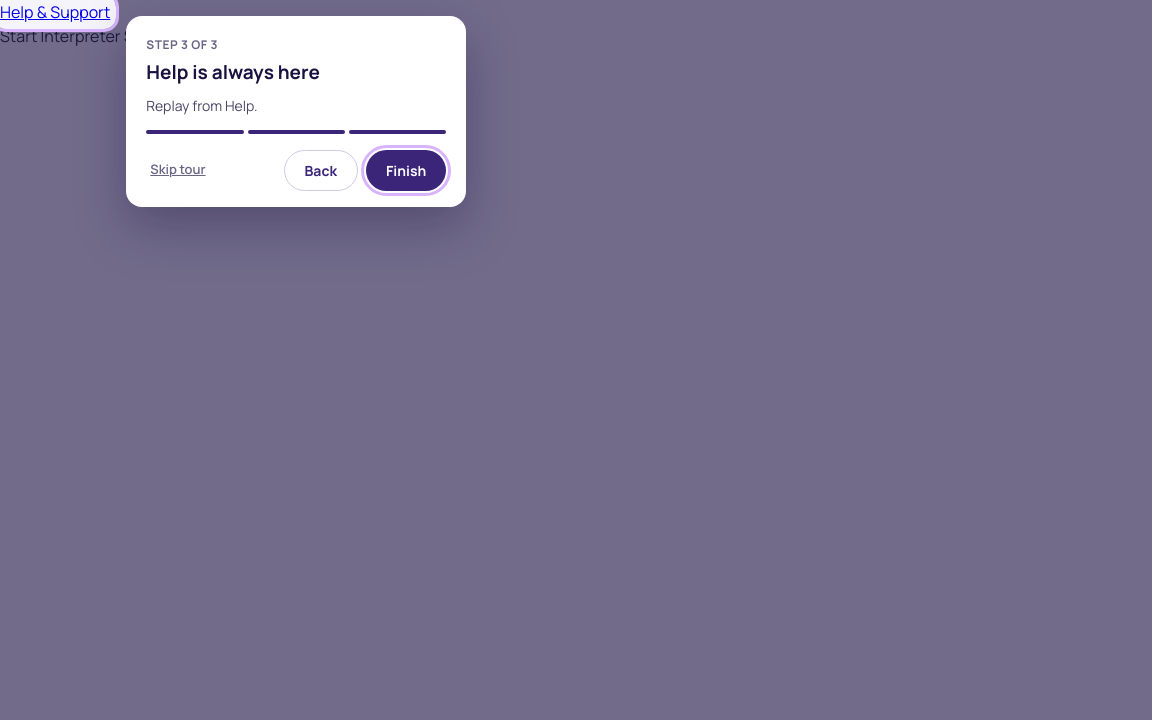
Test: StaffTutorial (V2-065) › finishes on the last step and closes
Expected: the dialog is shown, 126,16 -> 466,206
Click the button "Finish". click: point(406, 170)
box: 366,150 -> 446,190
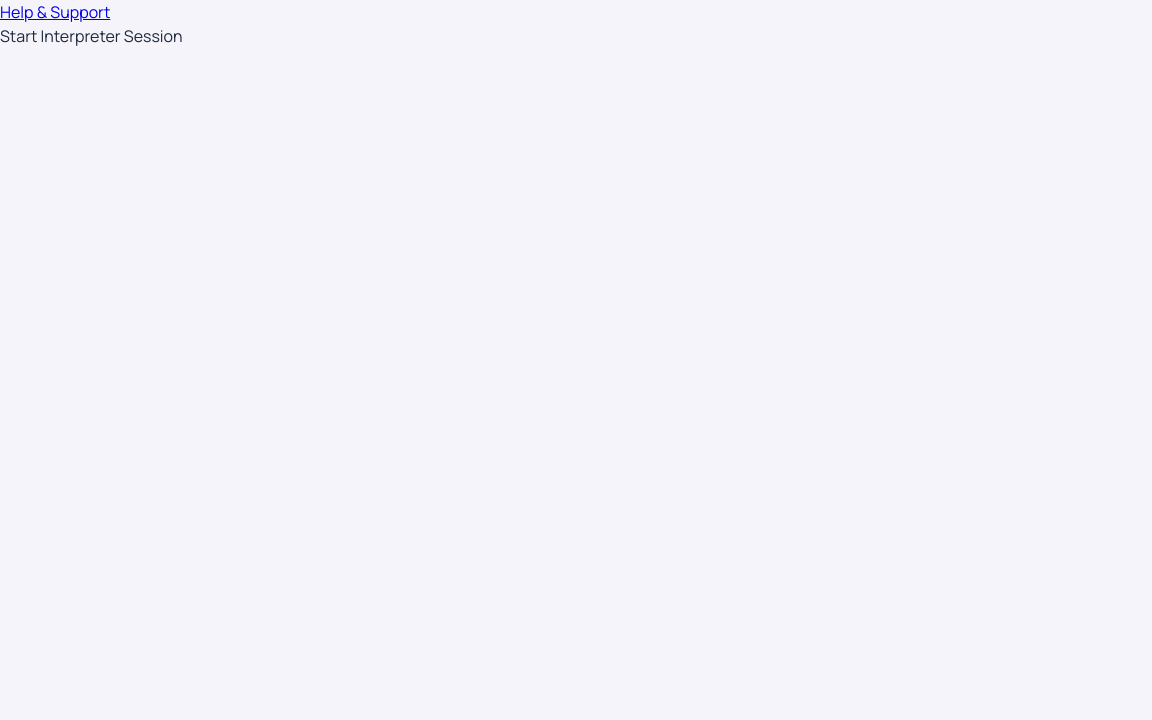
Expected: the dialog is gone
